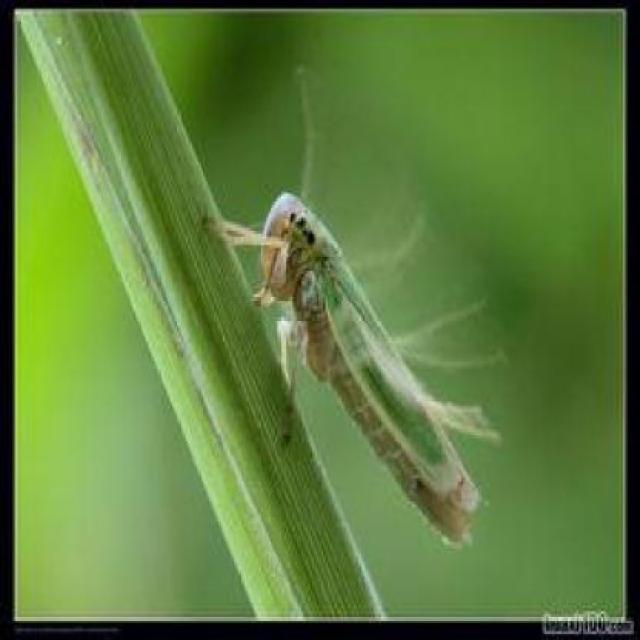green-leafhopper: (199, 188, 482, 549)
